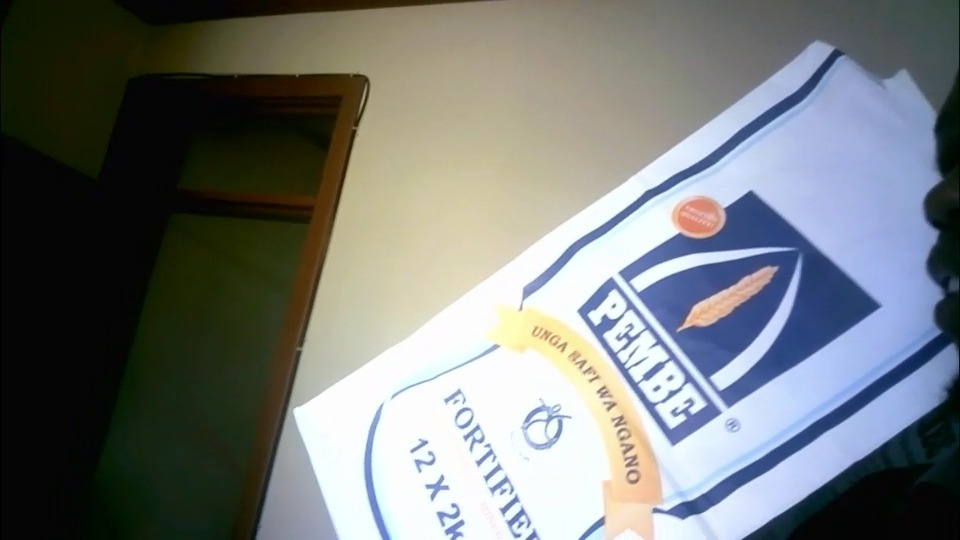wheat_flour_blue_label: (300, 41, 958, 540)
